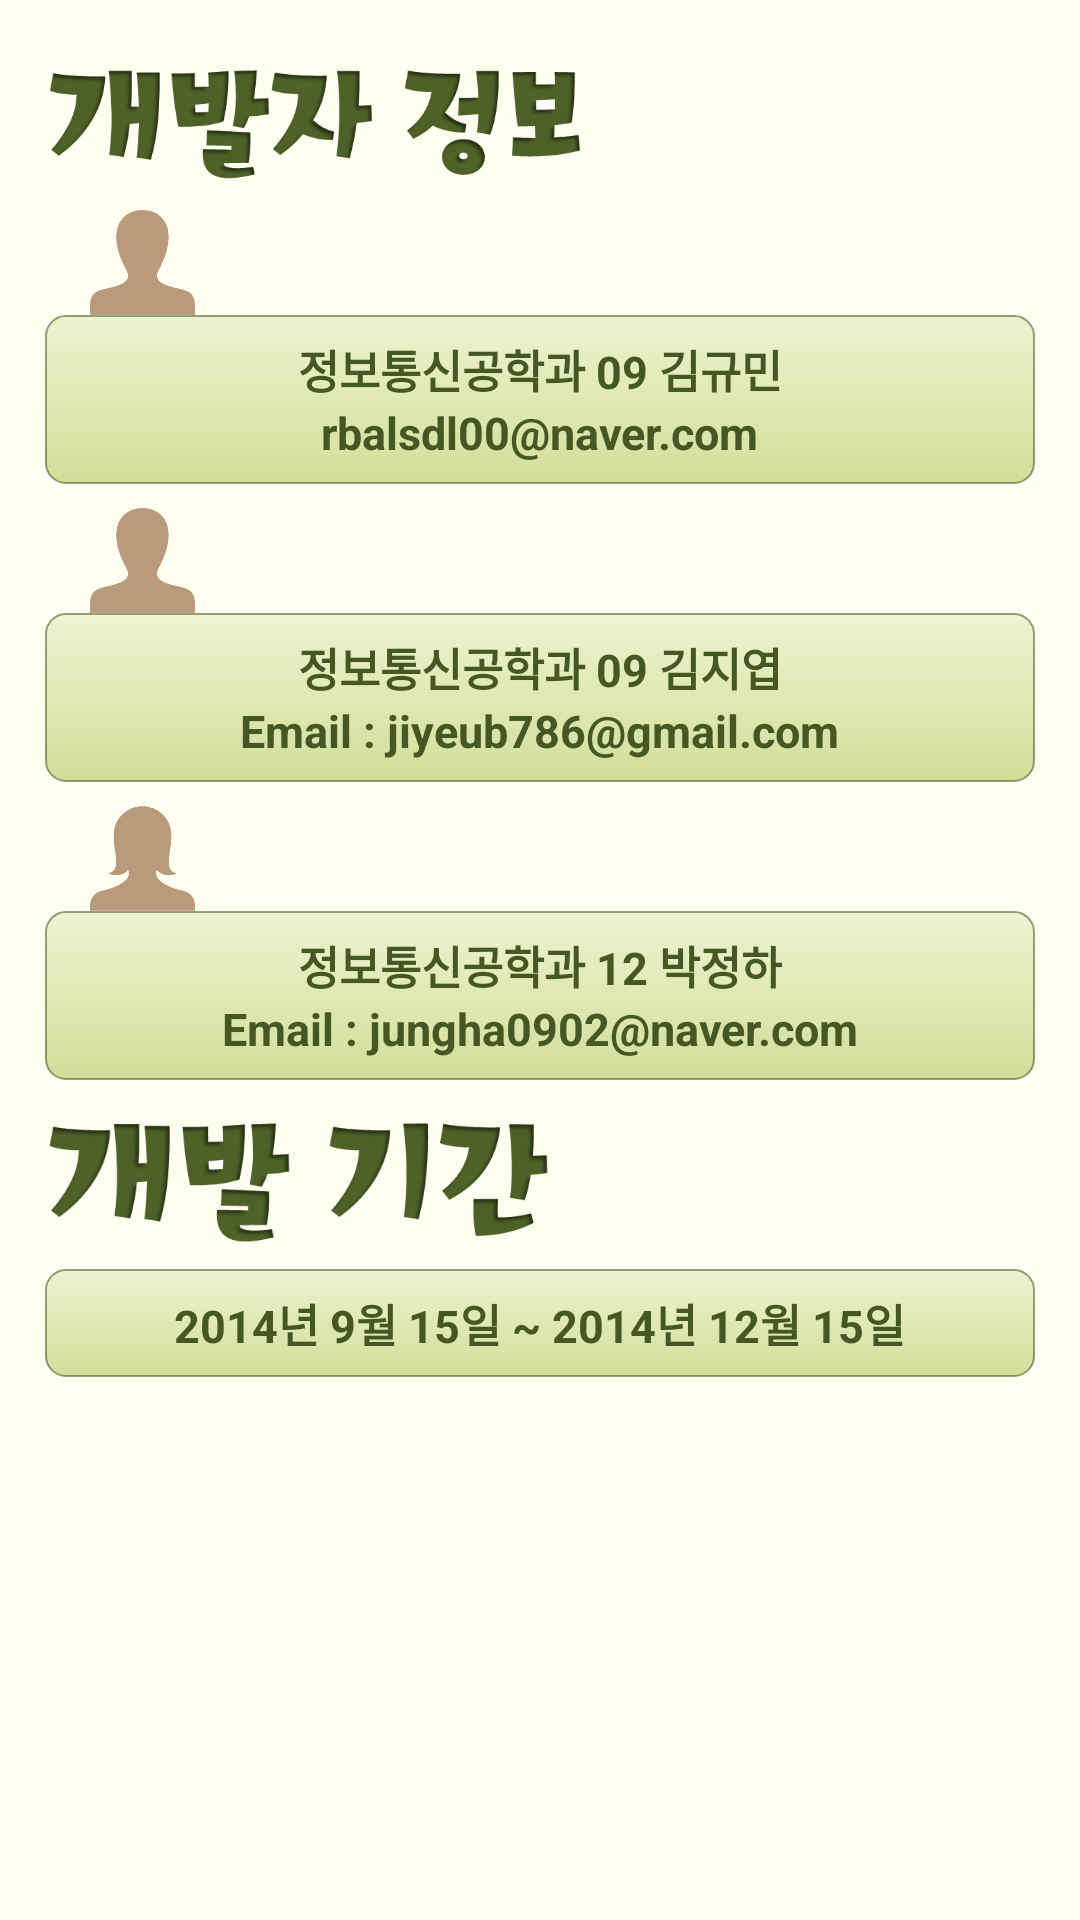

Icon bounding boxes for this 1080 × 1920 phone screenshot, format bbox(x1, y1, x2, y2):
user: bbox(90, 210, 195, 315), bbox(90, 508, 195, 613)
woman: bbox(90, 806, 195, 911)
